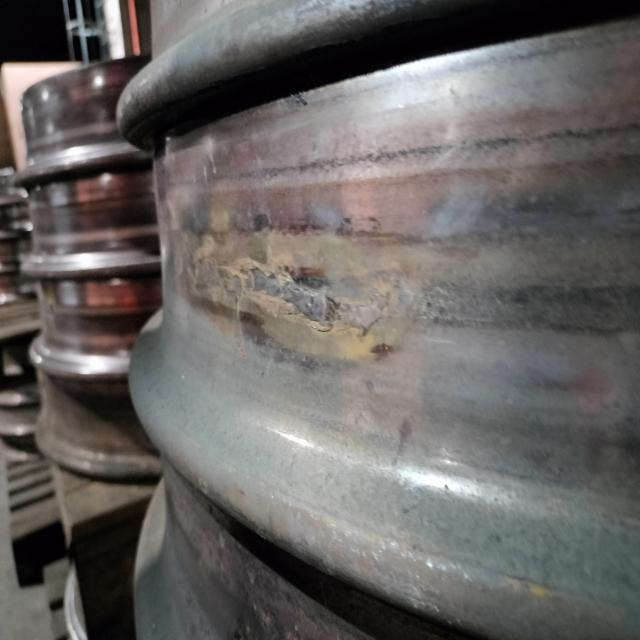Peeling: (191, 242, 387, 345)
